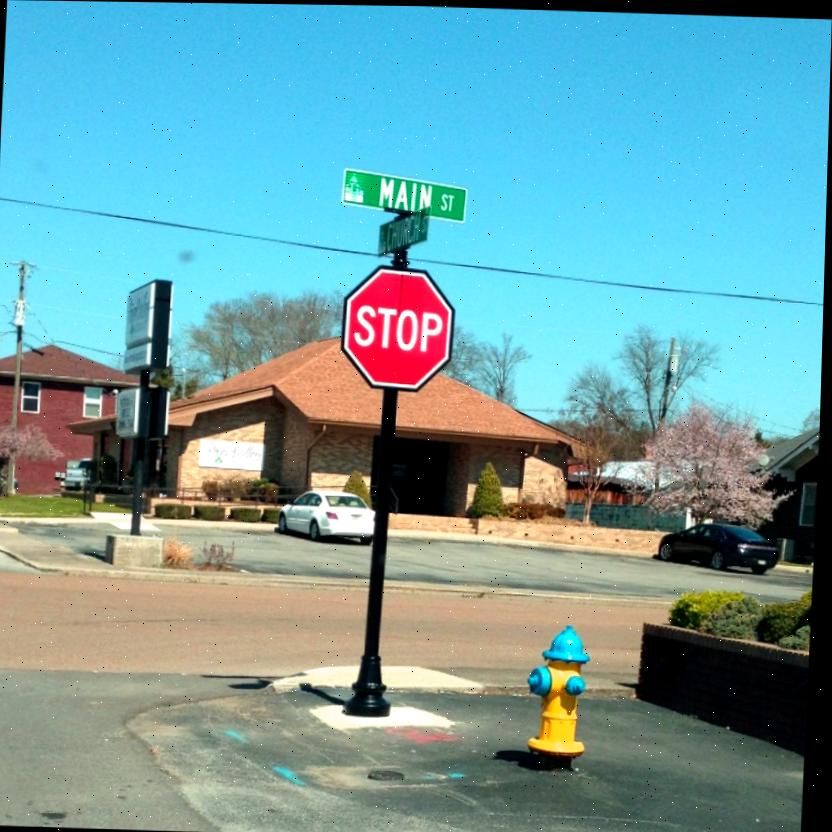Pole: (366, 388, 402, 714), (135, 438, 148, 535)
Sign: (341, 267, 458, 388)
